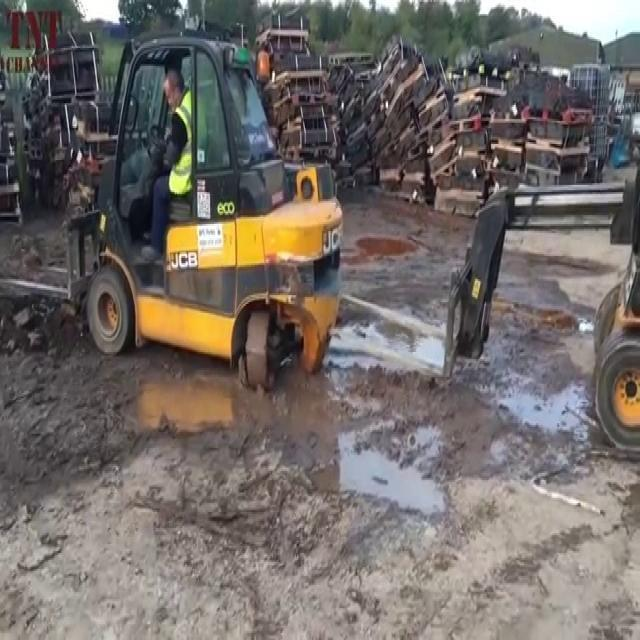forklift: (64, 25, 350, 403)
